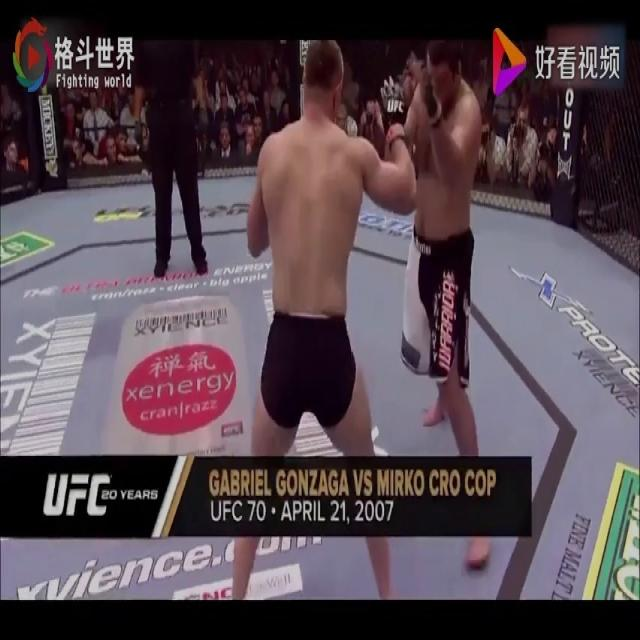fight: (227, 35, 493, 602)
non-fight: (129, 36, 213, 283)
